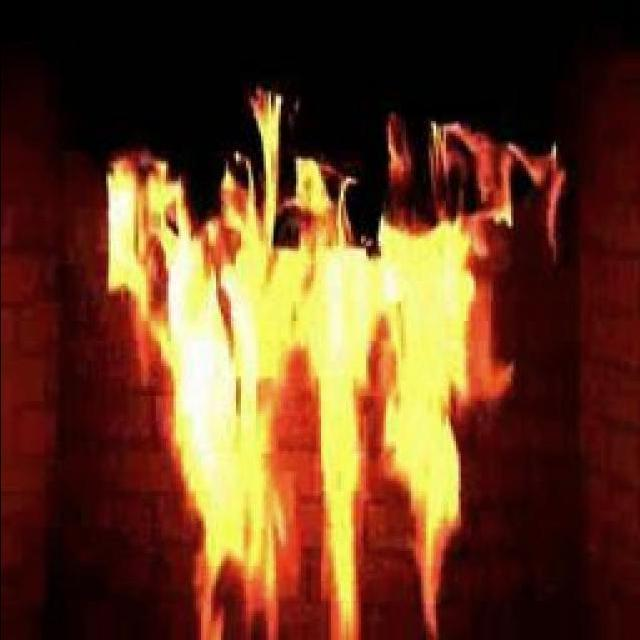Fire: (134, 158, 490, 578)
